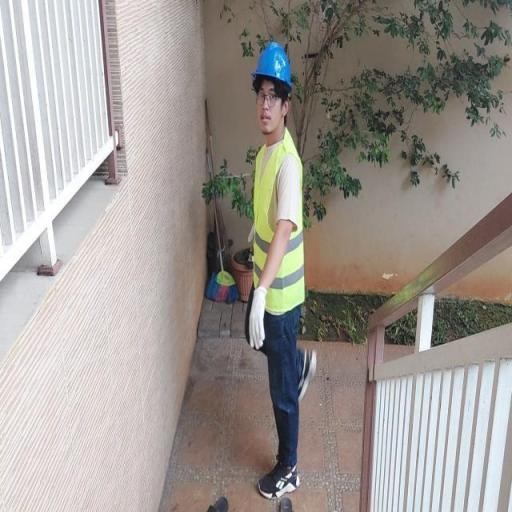Person: (214, 33, 333, 512), (222, 38, 328, 496)
gloves: (245, 290, 274, 352)
goggles: (250, 90, 296, 110)
helmet: (248, 40, 304, 88)
vest: (236, 144, 312, 305)
